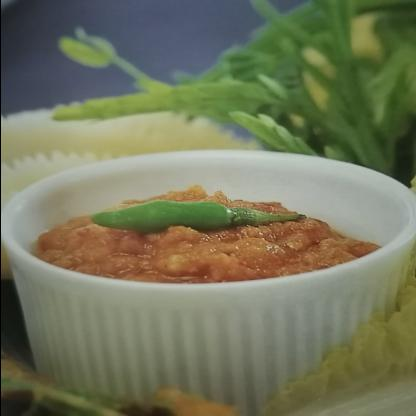Namprig: (20, 164, 386, 305)
